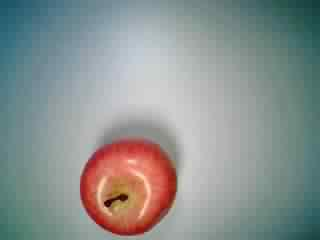apple: (73, 132, 179, 236)
